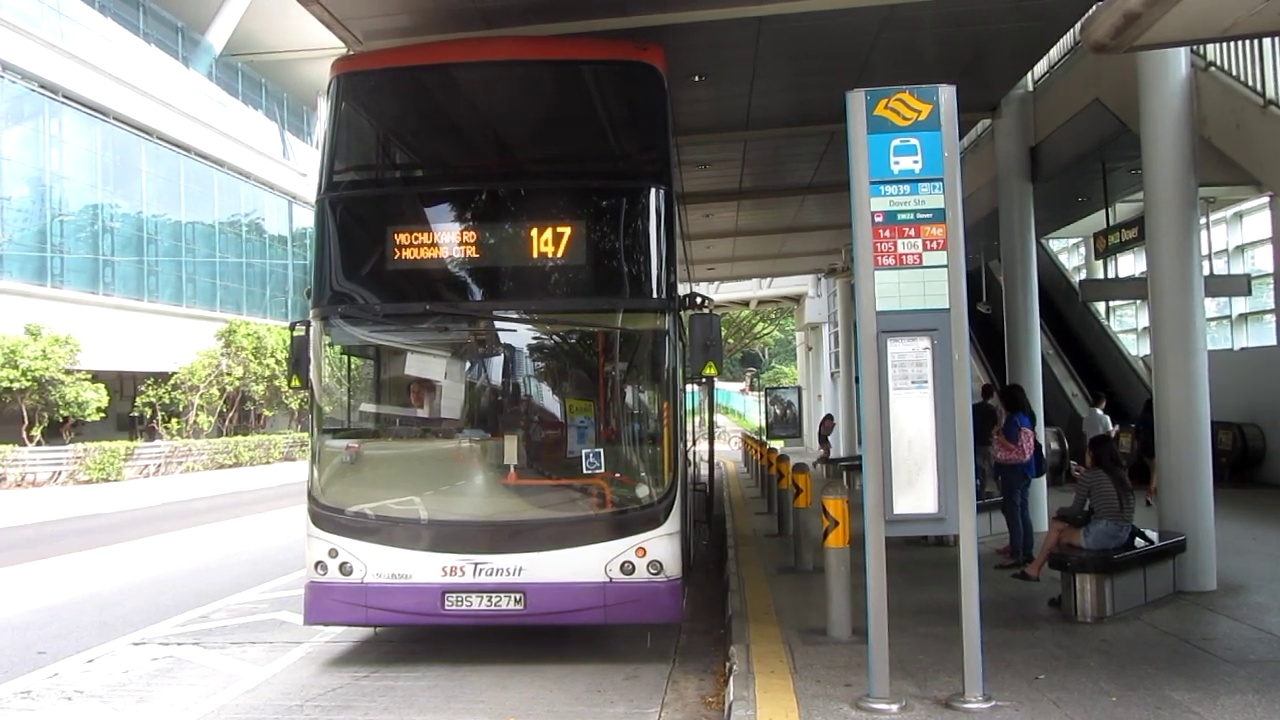bus panel: (382, 217, 589, 273)
